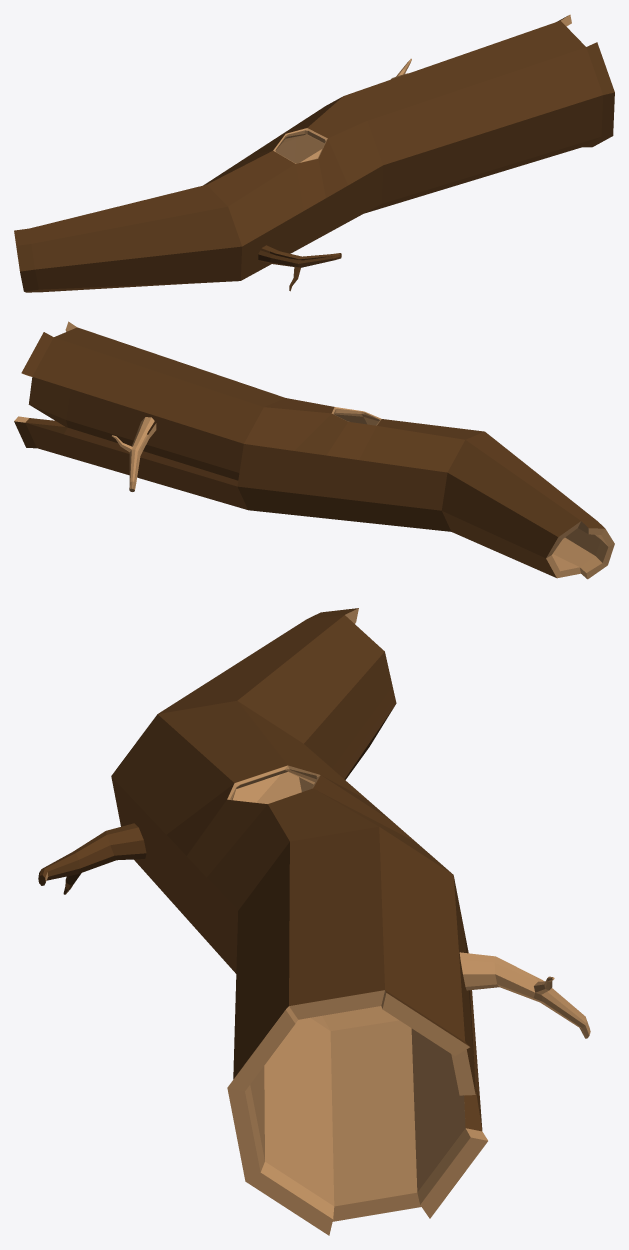
File: log.fbx
3 views of the same model, one above another, from view 1: azimuth 30°, elevation 25°; view 2: azimuth 150°, elevation 25°; view 3: azimuth 270°, elevation 25° (orthographic). The views are drawn at different scales.
Parts seen in each view (by area): view 1: Circle; view 2: Circle; view 3: Circle.
Part boxes in pixels (<box>): Circle: <box>14,14,614,292</box>; Circle: <box>14,321,614,579</box>; Circle: <box>38,608,590,1235</box>.
Bounding box in the file's own units: 240 × 53.08 × 103.
